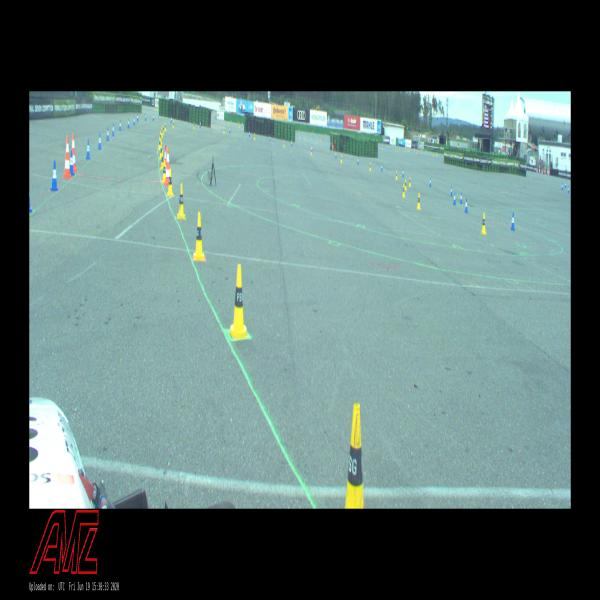blue_cone: (50, 160, 59, 190), (70, 150, 75, 175), (510, 212, 516, 230), (86, 139, 91, 159), (98, 133, 102, 150), (464, 197, 468, 213), (106, 126, 110, 141), (118, 120, 122, 131), (112, 123, 115, 136), (453, 192, 456, 205), (133, 115, 136, 126), (450, 185, 453, 196), (127, 118, 130, 128), (429, 176, 432, 186), (564, 180, 567, 188), (136, 113, 139, 121), (561, 182, 564, 190), (460, 193, 462, 204), (402, 167, 404, 178), (381, 163, 383, 172), (145, 112, 147, 120), (568, 185, 570, 193), (357, 157, 359, 165), (335, 152, 337, 159), (152, 114, 154, 121), (170, 116, 172, 123)
large_orange_cone: (63, 136, 72, 178), (72, 133, 78, 172), (164, 147, 169, 186), (162, 144, 166, 180)
yellow_cone: (345, 403, 364, 509), (228, 264, 249, 340), (193, 212, 205, 261), (177, 184, 186, 218), (167, 169, 175, 196), (480, 213, 486, 234), (162, 159, 166, 183), (160, 150, 164, 170), (417, 192, 421, 209), (402, 183, 406, 198), (159, 145, 162, 159), (158, 137, 161, 151), (409, 176, 412, 187), (395, 170, 398, 180), (369, 162, 372, 172), (164, 122, 167, 131), (340, 155, 343, 163), (193, 121, 196, 129), (405, 179, 407, 190), (160, 133, 162, 144), (161, 127, 163, 138), (310, 147, 312, 154), (163, 124, 164, 134), (173, 120, 174, 128)
